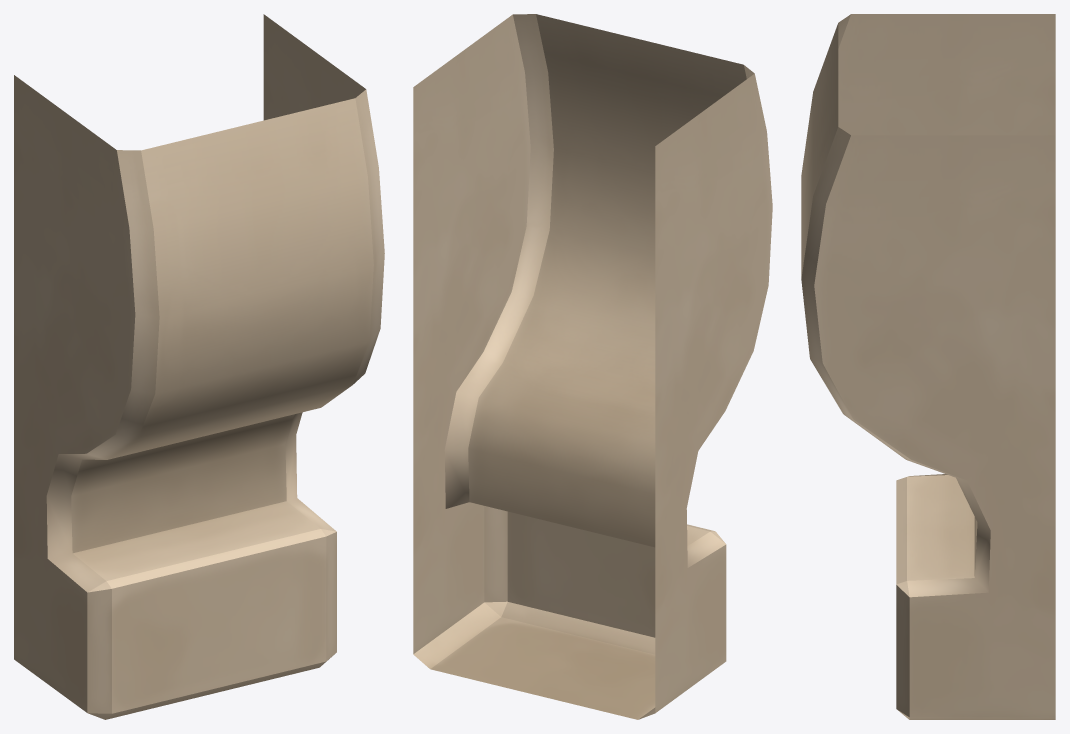
Rendered from SM_Bracket.FBX.
3 views of the same model, side by side, from view 1: azimuth 30°, elevation 25°; view 2: azimuth 150°, elevation 25°; view 3: azimuth 270°, elevation 25° (orthographic). The views are drawn at different scales.
Parts seen in each view (by area): view 1: SM_Bracket; view 2: SM_Bracket; view 3: SM_Bracket.
Boxes of the visible parts, x1,y1,x2,y2 form: SM_Bracket: (14, 14, 384, 719); SM_Bracket: (413, 14, 772, 719); SM_Bracket: (801, 14, 1055, 719).
Bounding box in the file's own units: 17.46 × 15.48 × 39.84.
